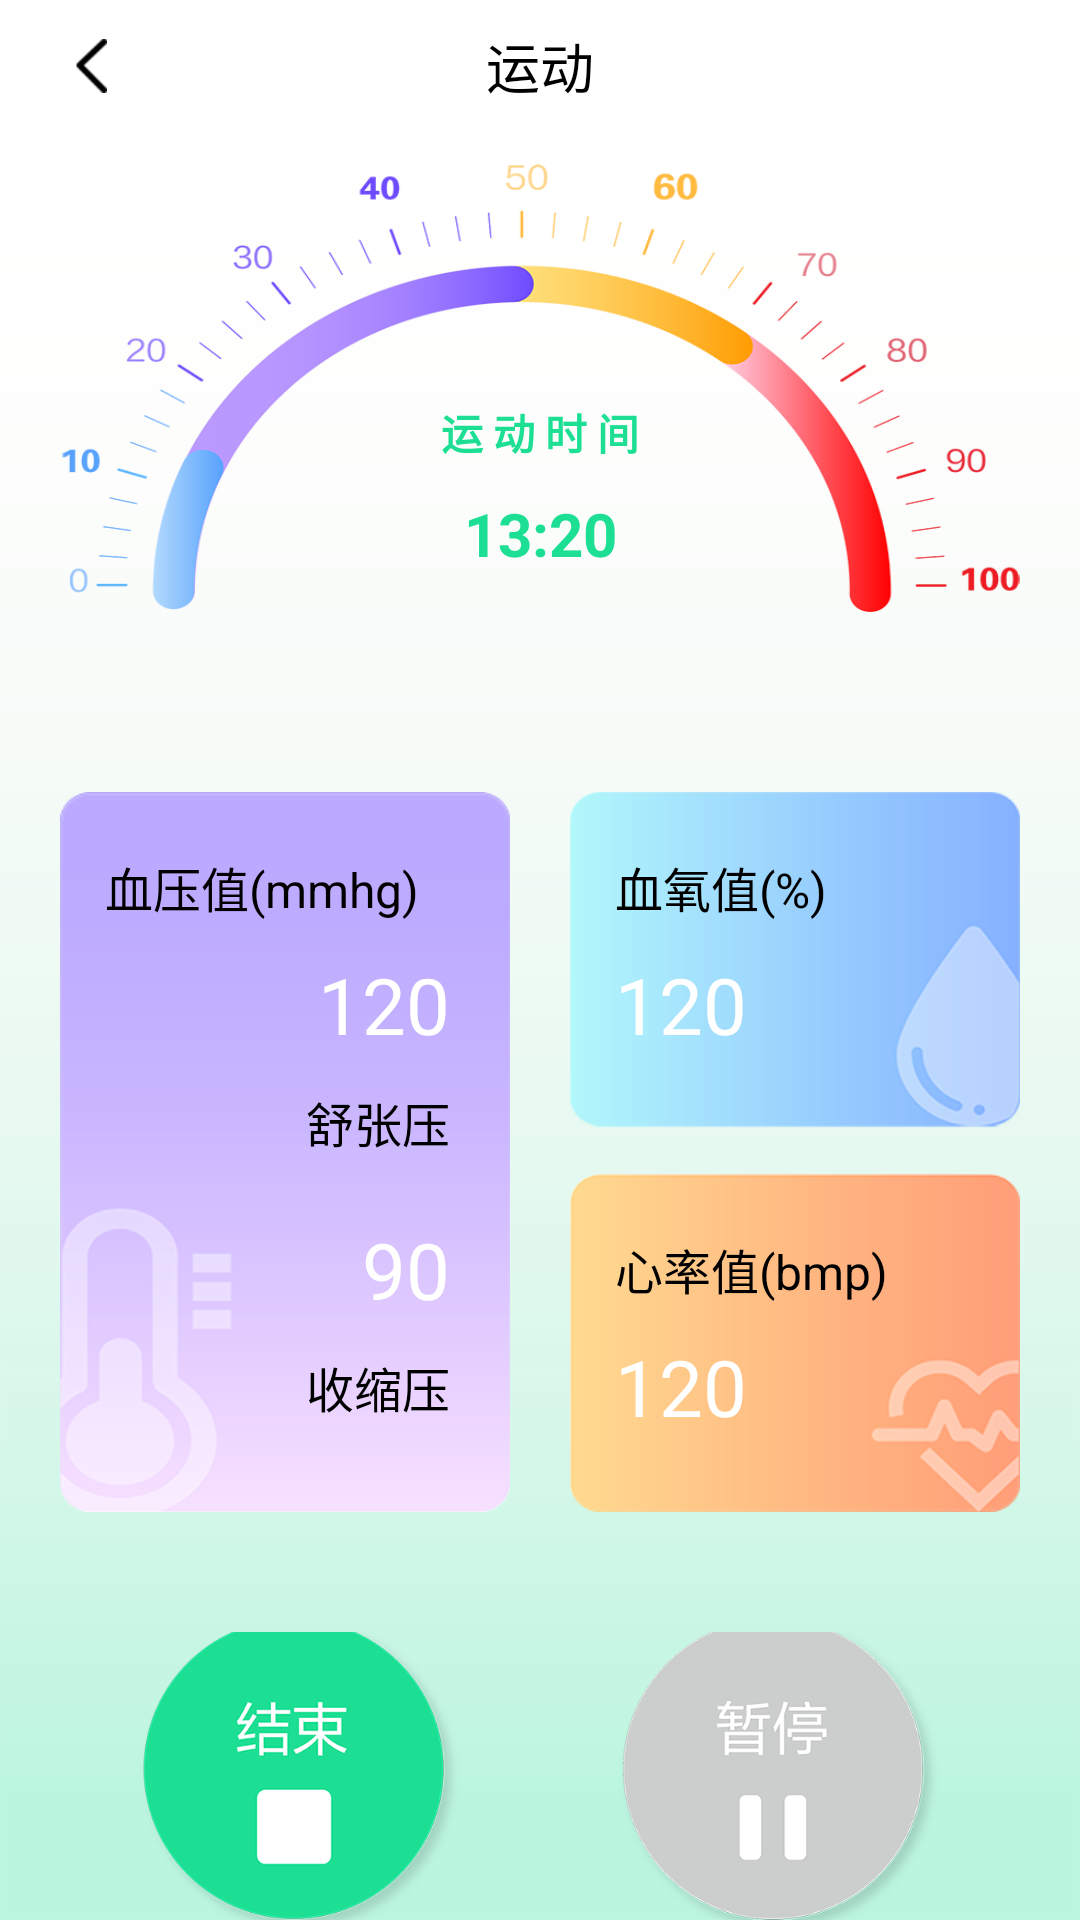

Screen size 1080w x 1920h. Icon name, then its center in pixels as (x=x, y=y):
right return iv: (x=91, y=66)
